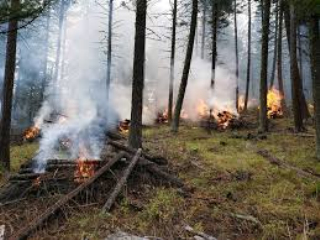fire: (193, 92, 252, 129), (256, 87, 292, 126), (65, 153, 108, 185), (21, 120, 43, 142)
smoke: (37, 28, 108, 170), (152, 45, 253, 111)
